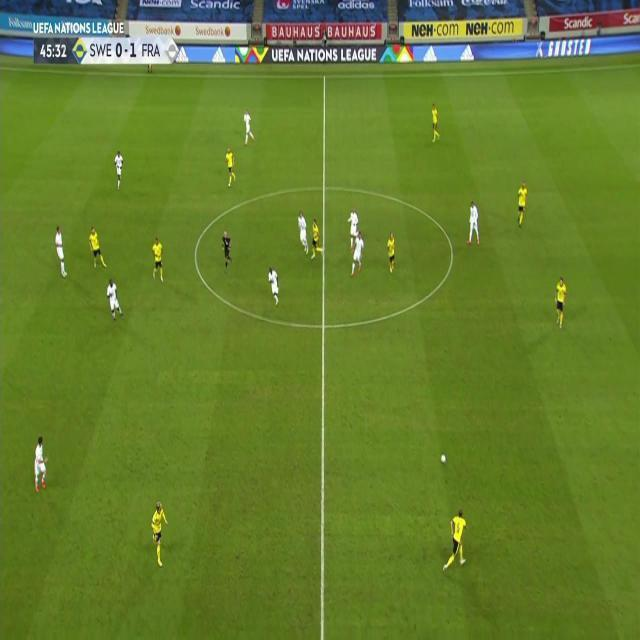ball: (440, 453, 448, 466)
player: (442, 509, 471, 579), (151, 501, 169, 571), (105, 279, 126, 325), (33, 437, 49, 493), (53, 224, 69, 278), (88, 227, 107, 269), (350, 230, 365, 278), (554, 278, 567, 332), (515, 179, 529, 229), (467, 201, 482, 247), (151, 238, 165, 286), (346, 207, 359, 253), (296, 210, 309, 256), (309, 220, 324, 259), (267, 266, 281, 307), (223, 146, 237, 186), (241, 110, 255, 148), (429, 102, 441, 143), (387, 230, 397, 276), (114, 151, 124, 193)
referee: (221, 230, 233, 274)
